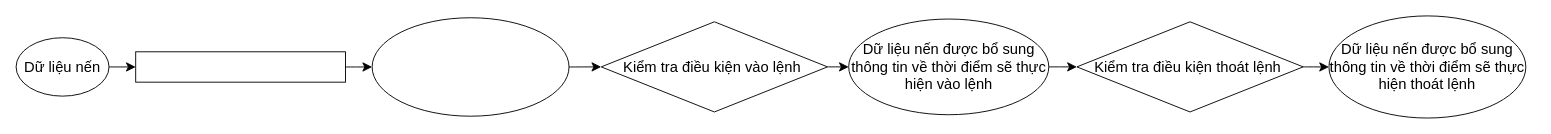
The diagram is 1551 pixels wide and 134 high, and some of its shapes have lost their labels. Here are the shapes that lost their labels. From the top down, the centre of each, then its label:
At pixel 240 66: "Tính toán các chỉ số kỹ thuật".
At pixel 470 66: "Dữ liệu nến được bổ sung thêm các giá trị chỉ số kỹ thuật".
